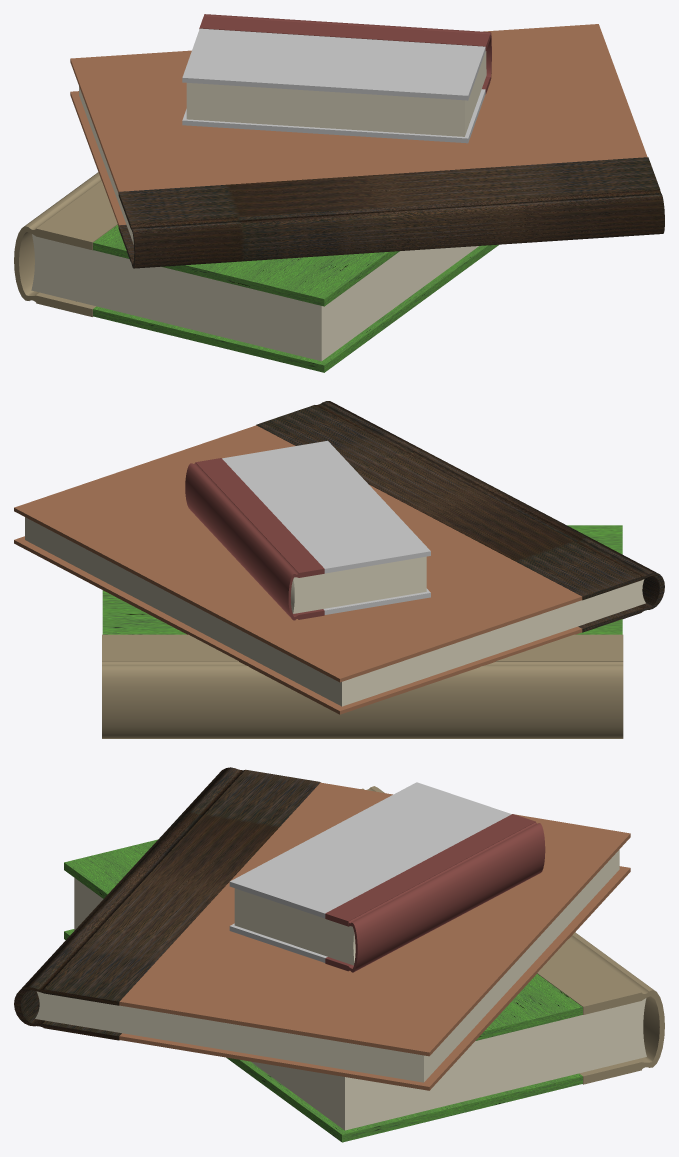
The picture shows the model from 3 angles, top to bottom: view 1: azimuth 30°, elevation 25°; view 2: azimuth 150°, elevation 25°; view 3: azimuth 270°, elevation 25°; orthographic projection. The views are drawn at different scales.
Visible parts, largest first — view 1: Mesh16_Group9_Book_2_1_Stack_of_Books1_Model; view 2: Mesh16_Group9_Book_2_1_Stack_of_Books1_Model; view 3: Mesh16_Group9_Book_2_1_Stack_of_Books1_Model.
Boxes of the visible parts, x1,y1,x2,y2 form: Mesh16_Group9_Book_2_1_Stack_of_Books1_Model: (14, 14, 664, 372); Mesh16_Group9_Book_2_1_Stack_of_Books1_Model: (14, 401, 664, 738); Mesh16_Group9_Book_2_1_Stack_of_Books1_Model: (14, 767, 664, 1142).
Size of the model in its own units: 0.9975 by 0.2601 by 0.8929.
